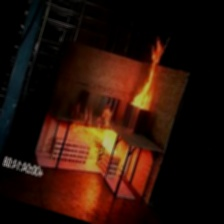fire: (113, 30, 186, 131), (55, 94, 141, 178)
